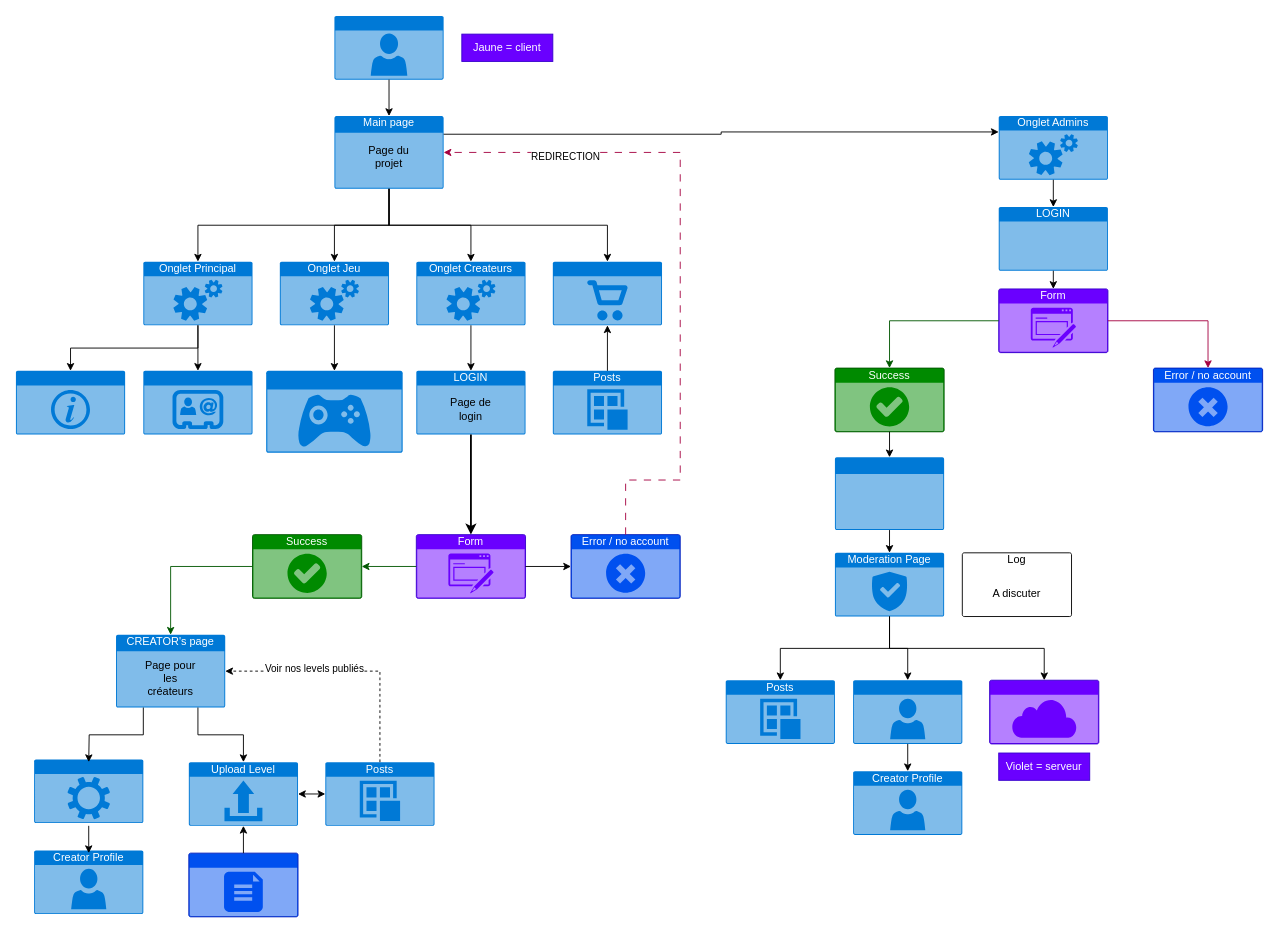
Image size: 1279x933. Some labels were removed from this diagram. The centre of each missing label's shape, as x and y in pixels:
Admin's panel: the point at 889,493
Cloud / Serveur: the point at 1044,711
Contact / Notre team: the point at 197,402
Creator Accounts: the point at 907,711
Game running clientside: the point at 334,411
Info / Projet: the point at 70,402
Level files: the point at 243,884
Onglet marketplace: the point at 607,293
Settings: the point at 88,791
User: the point at 388,47
